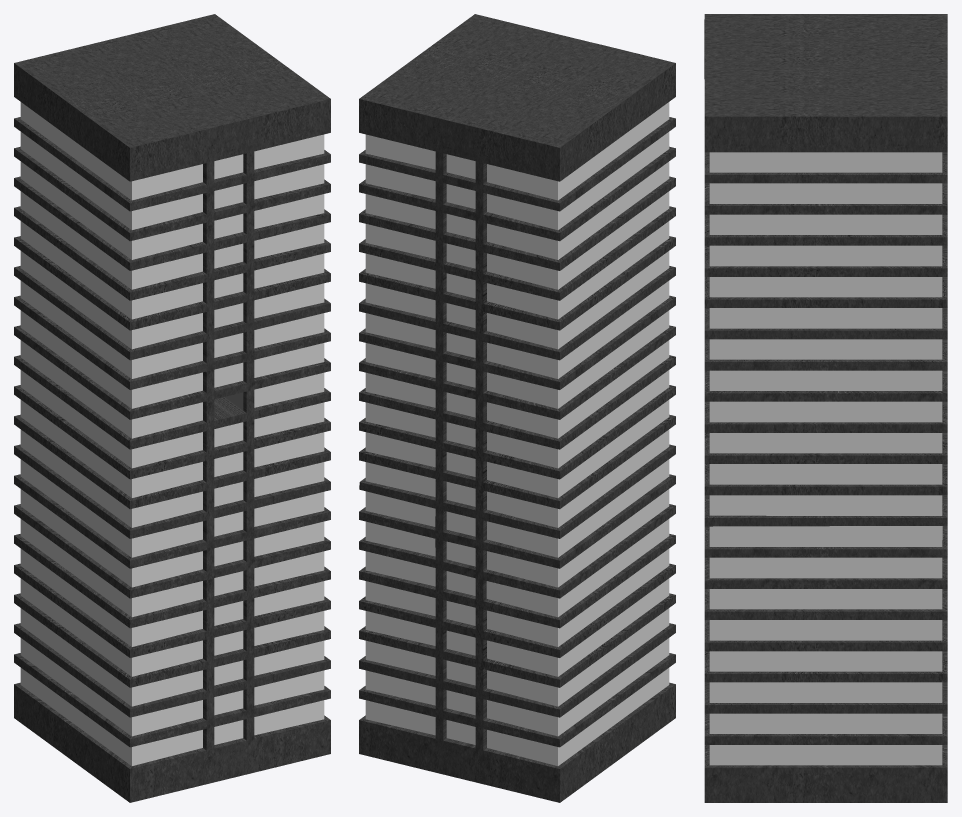
File: First.glb
The picture shows the model from 3 angles, left to right: view 1: azimuth 30°, elevation 25°; view 2: azimuth 150°, elevation 25°; view 3: azimuth 270°, elevation 25°; orthographic projection. The views are drawn at different scales.
Visible parts, largest first — view 1: Cube; view 2: Cube; view 3: Cube.
Boxes of the visible parts, left/top/right/bottom form: Cube: left=14, top=14, right=330, bottom=802; Cube: left=359, top=14, right=675, bottom=802; Cube: left=704, top=14, right=947, bottom=802.
Bounding box in the file's own units: 8.01 × 24.96 × 8.03.
Materials: 2 (1 with a texture image).
